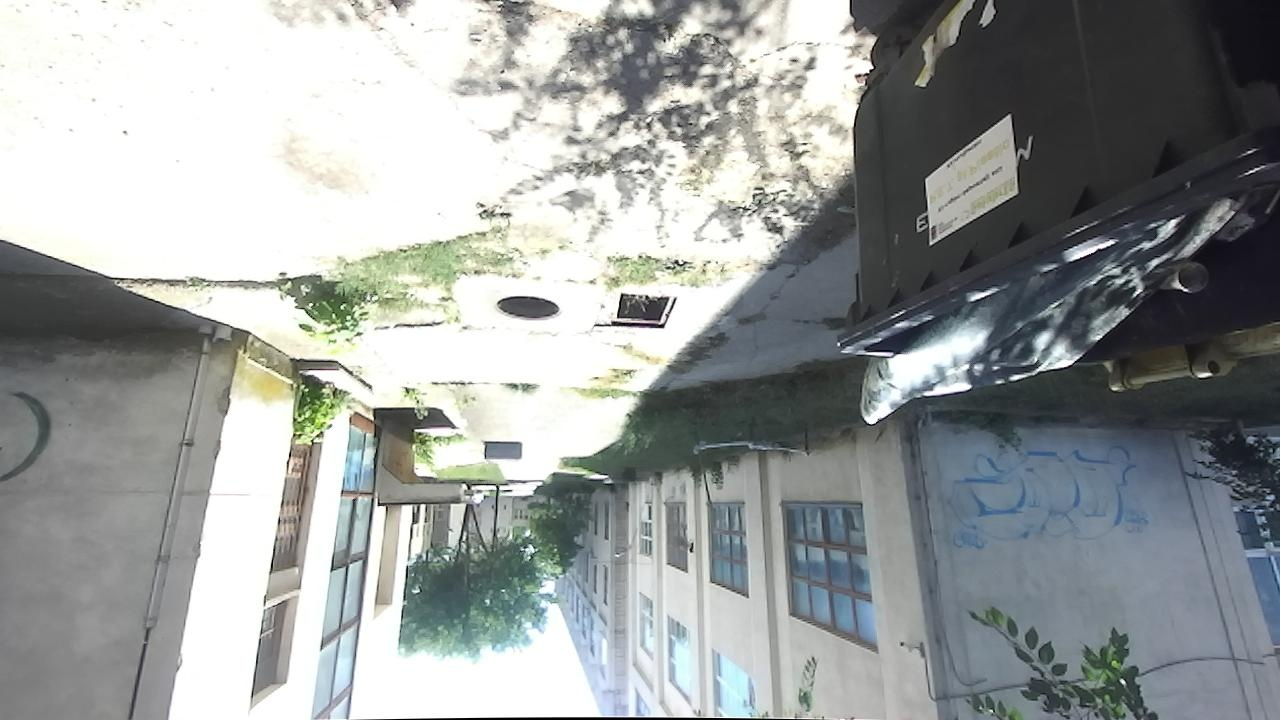drain: (610, 290, 679, 329), (489, 294, 566, 326)
